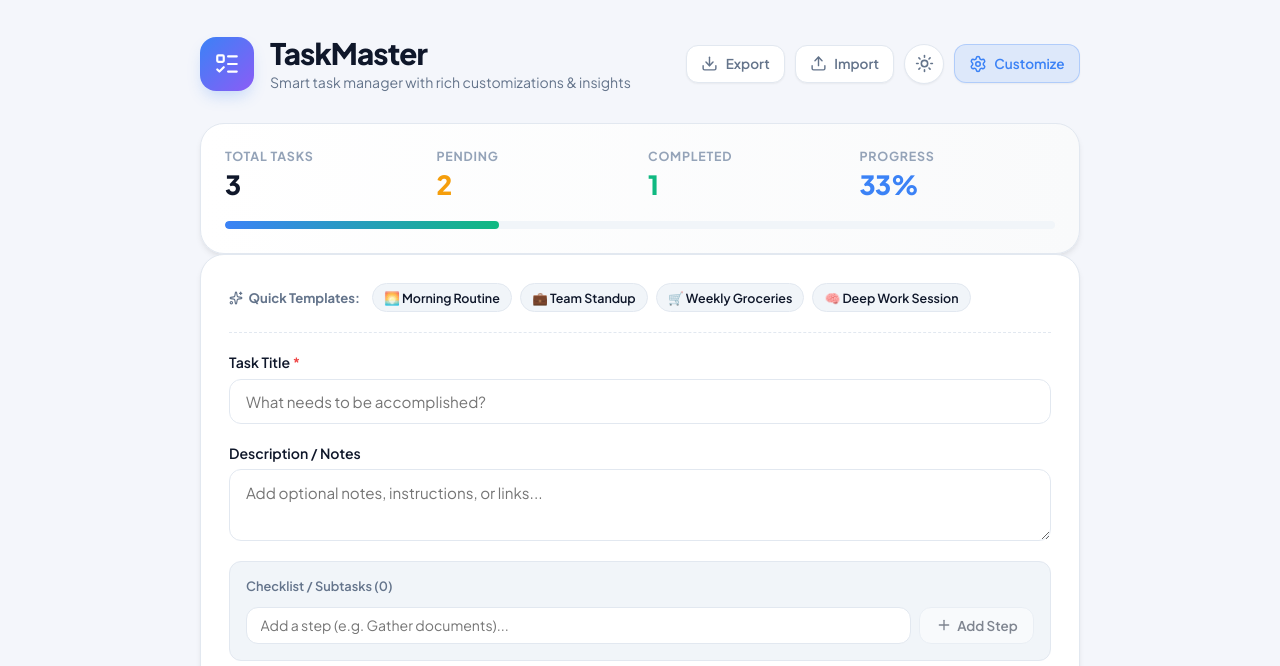
Scenario: TaskMaster App › allows adding a new task with title and priority
The image size is (1280, 666).
In the field with placeholder "What needs to be accomplished?": (640, 401) [229, 379, 1051, 424], type "Test Vitest Task"
(page scrolled)
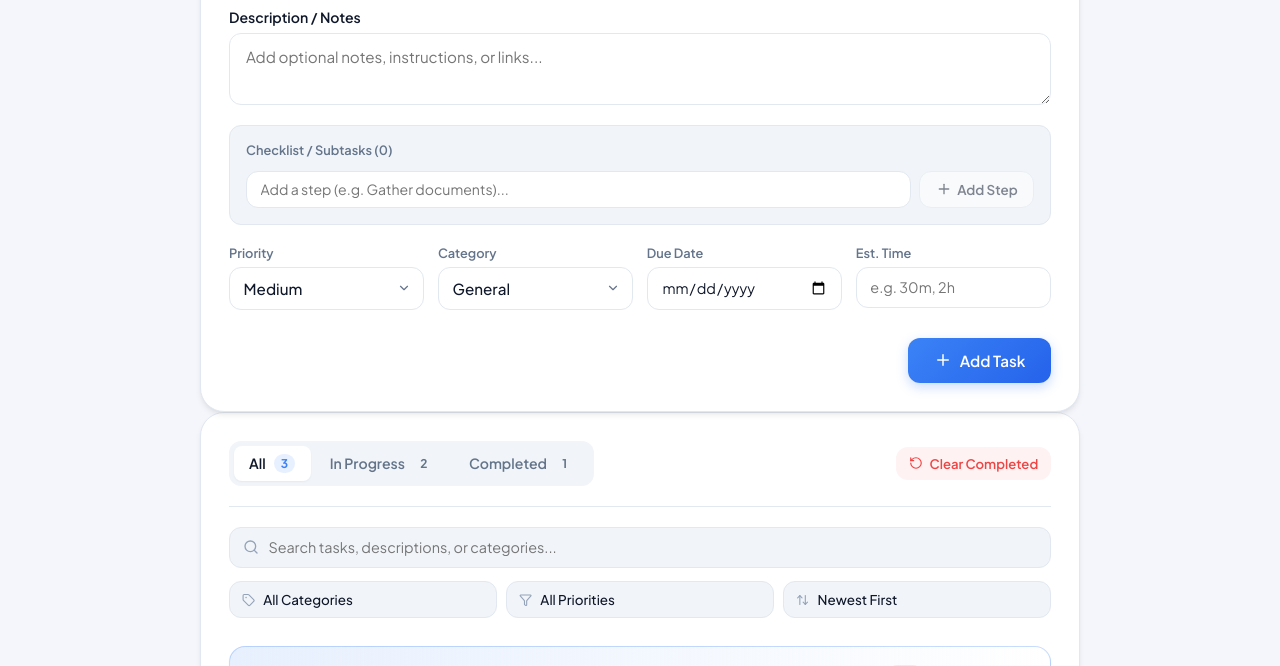
expect the button "Add Task" is enabled: met
Click the button "Add Task": (980, 360) [908, 338, 1051, 383]
(page scrolled)
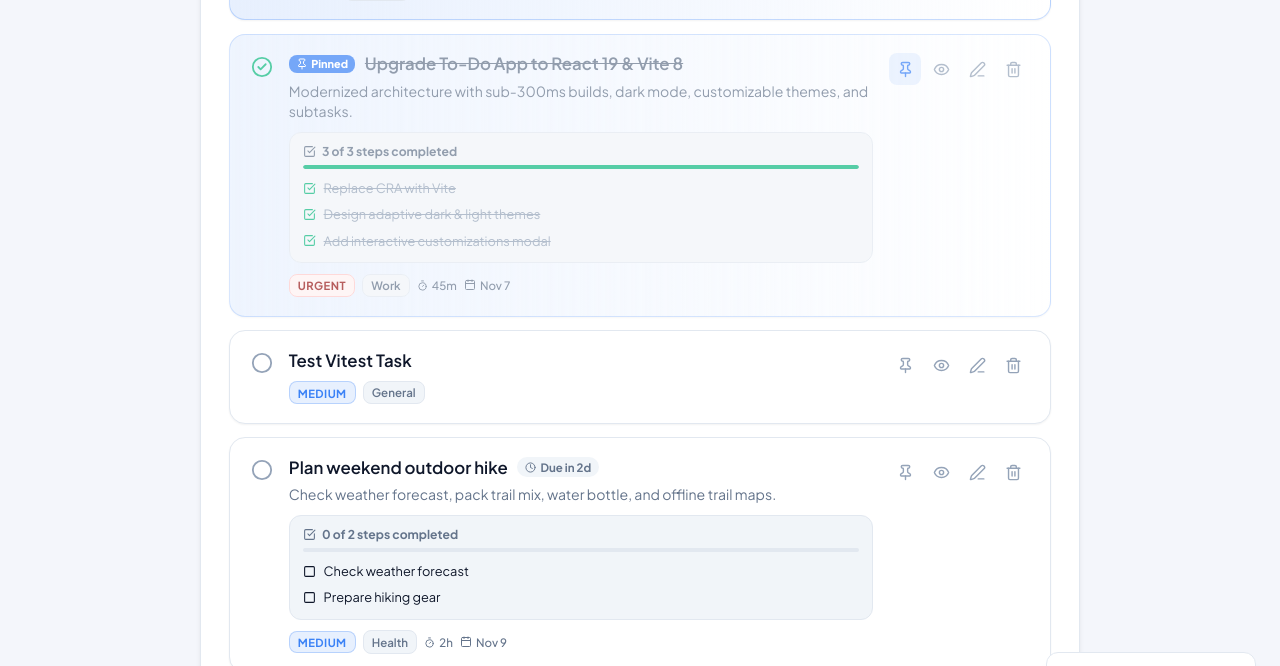
expect the heading "Test Vitest Task" is shown: met, box [289, 350, 412, 370]
